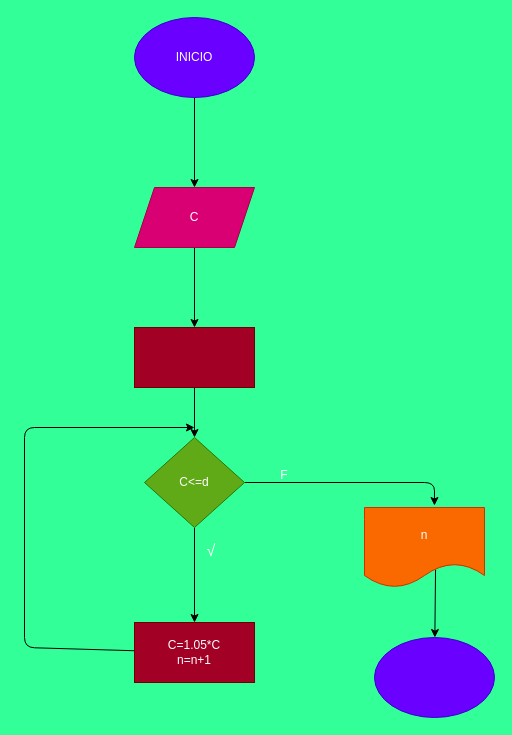
This 512x735 diagram has some shape labels left out. Each missing label, with the centre of its shape:
FIN: [434,677]
n=0 d=2*C: [194,357]
